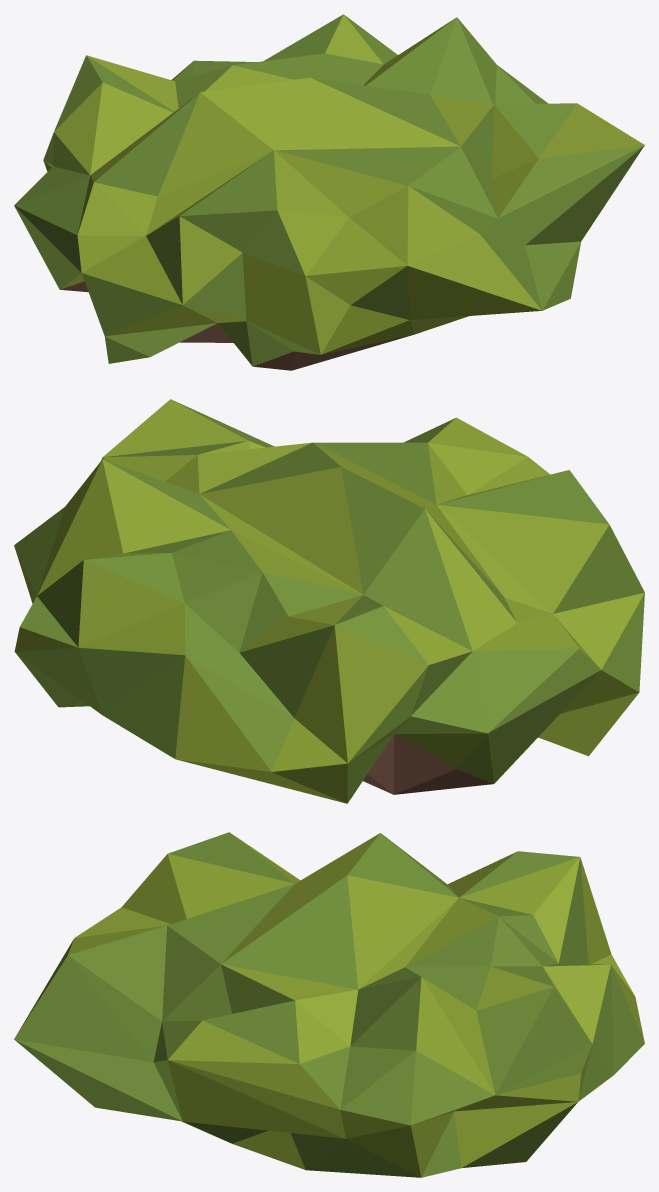
File: Mech_Suchy.fbx
3 views of the same model, one above another, from view 1: azimuth 30°, elevation 25°; view 2: azimuth 150°, elevation 25°; view 3: azimuth 270°, elevation 25° (orthographic). The views are drawn at different scales.
Parts seen in each view (by area): view 1: Cube.002; view 2: Cube.002; view 3: Cube.002.
Part boxes in pixels (box(x1,y1,x2,y2)): Cube.002: box(14, 14, 644, 370); Cube.002: box(14, 399, 644, 803); Cube.002: box(14, 832, 644, 1177).
Size of the model in its own units: 28.54 by 11.97 by 30.17.
